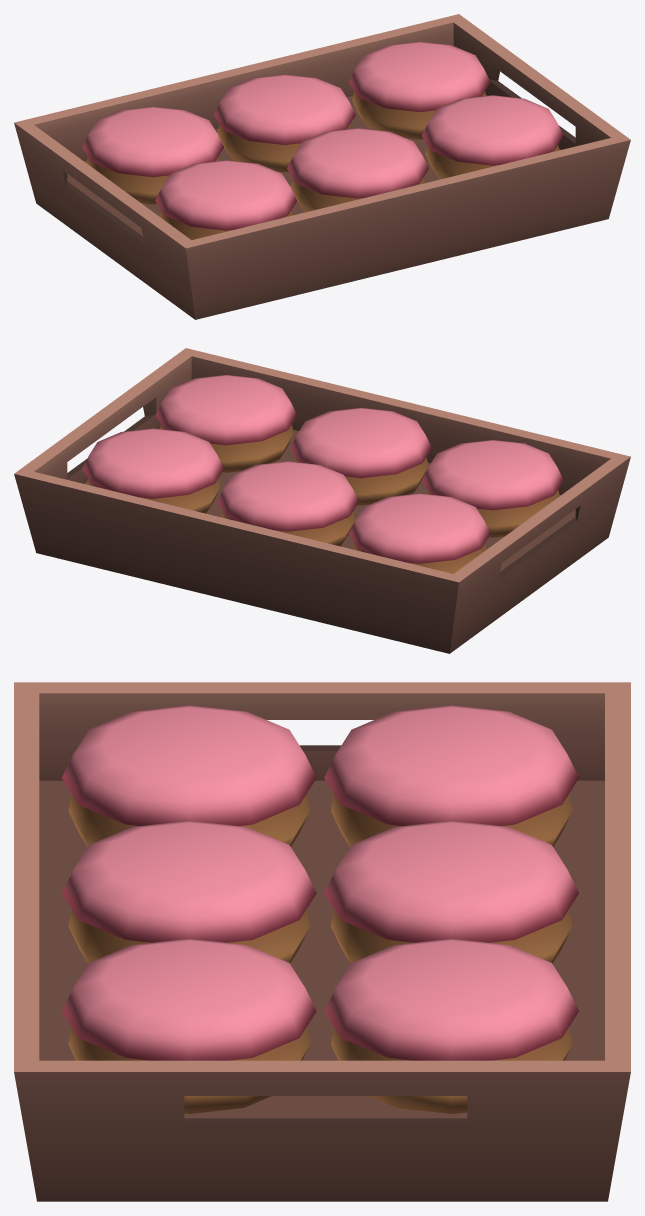
Rendered from Berliner.fbx.
3 views of the same model, one above another, from view 1: azimuth 30°, elevation 25°; view 2: azimuth 150°, elevation 25°; view 3: azimuth 270°, elevation 25° (orthographic). The views are drawn at different scales.
Visible parts, largest first — view 1: Plane.013, Cylinder.050, Cylinder.048, Cylinder.046, Cylinder.051, Cylinder.049, Cylinder.047; view 2: Plane.013, Cylinder.051, Cylinder.049, Cylinder.047, Cylinder.050, Cylinder.048, Cylinder.046; view 3: Plane.013, Cylinder.050, Cylinder.048, Cylinder.049, Cylinder.051, Cylinder.046, Cylinder.047.
Part boxes in pixels (x1,y1,x2,y2): Plane.013: [14, 14, 630, 319]; Cylinder.050: [348, 41, 490, 139]; Cylinder.048: [214, 74, 355, 172]; Cylinder.046: [82, 106, 223, 204]; Cylinder.051: [421, 95, 563, 179]; Cylinder.049: [287, 128, 428, 212]; Cylinder.047: [155, 160, 297, 239]; Plane.013: [14, 348, 630, 653]; Cylinder.051: [155, 375, 297, 472]; Cylinder.049: [290, 407, 431, 505]; Cylinder.047: [422, 440, 563, 537]; Cylinder.050: [82, 428, 224, 513]; Cylinder.048: [217, 461, 358, 546]; Cylinder.046: [349, 493, 490, 573]; Plane.013: [14, 682, 630, 1201]; Cylinder.050: [324, 938, 578, 1113]; Cylinder.048: [324, 820, 578, 963]; Cylinder.049: [62, 820, 316, 963]; Cylinder.051: [62, 938, 316, 1113]; Cylinder.046: [324, 705, 578, 846]; Cylinder.047: [62, 705, 316, 846].
Size of the model in its own units: 23.03 by 4.4 by 15.41.
